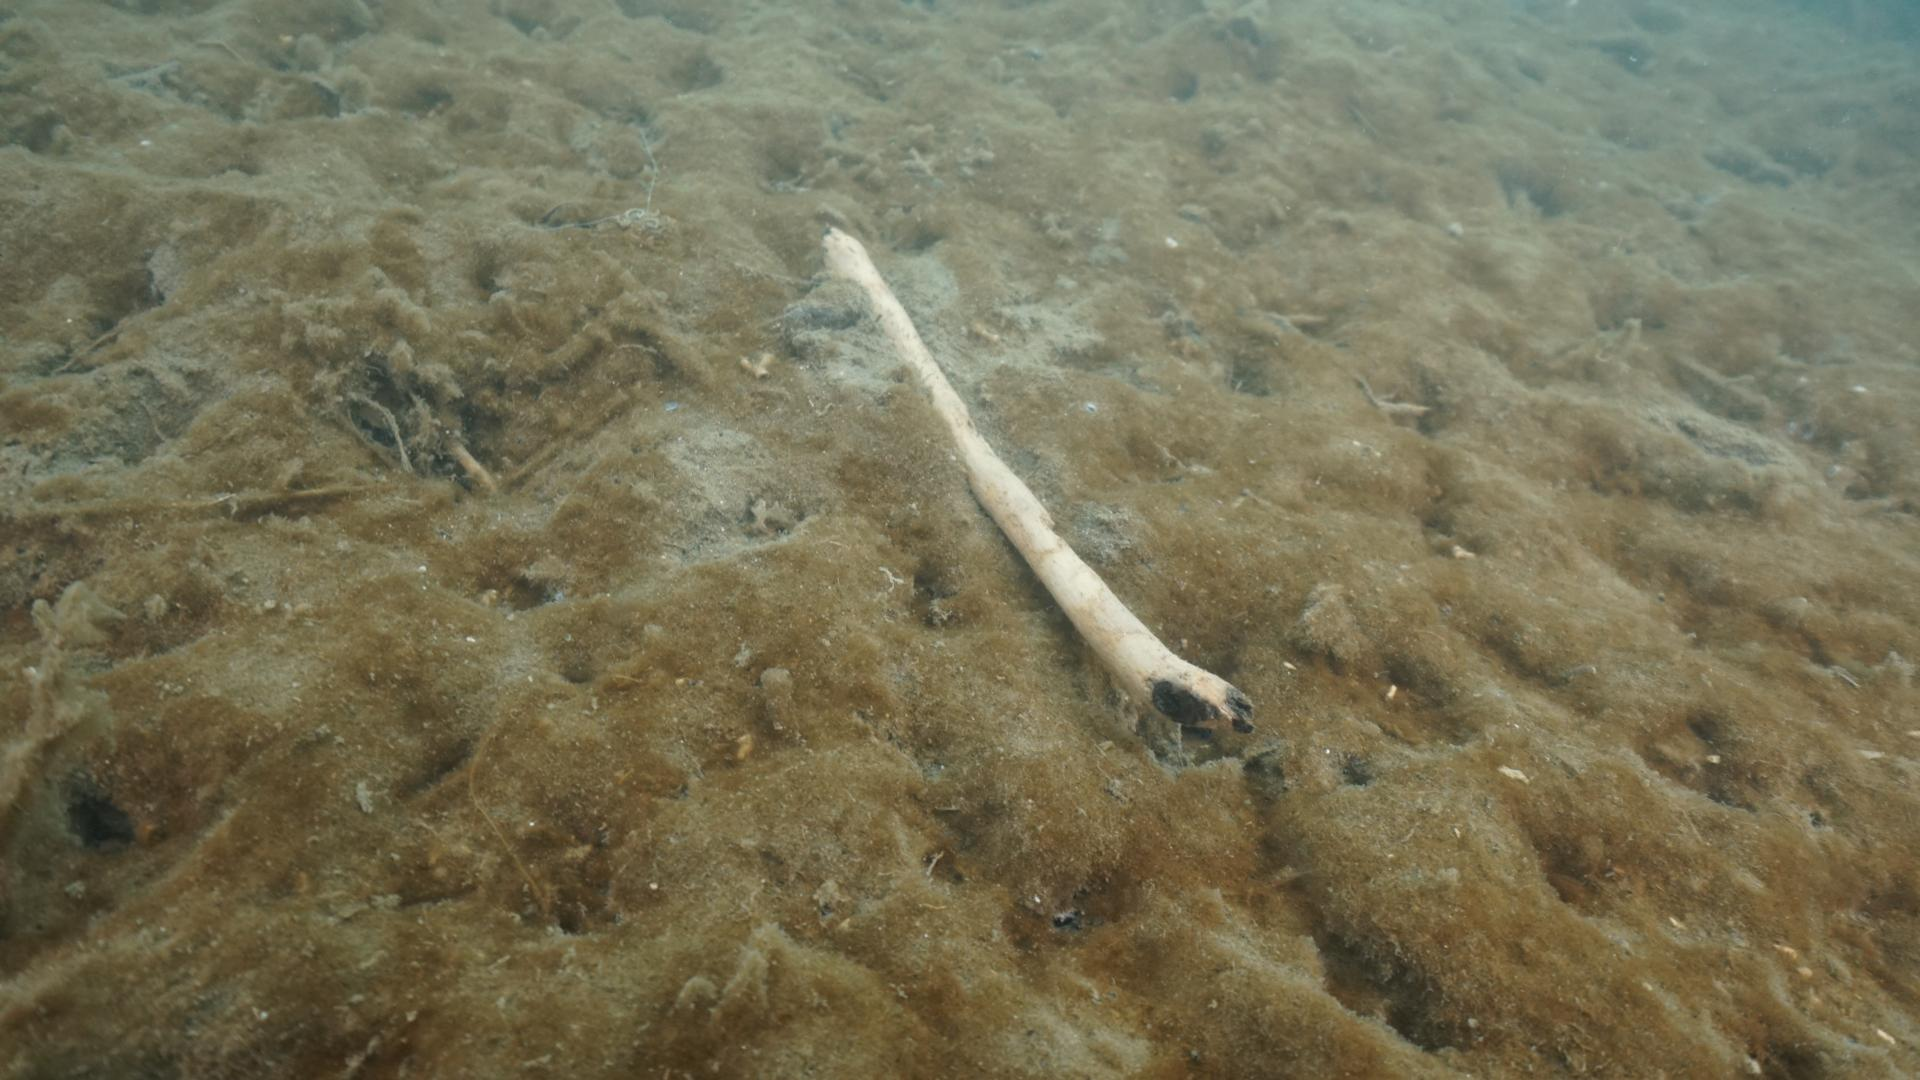wood: (818, 223, 1255, 731)
